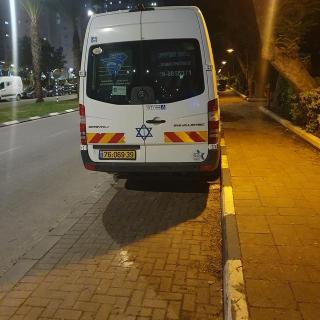LicensePlate: (104, 152, 135, 159)
